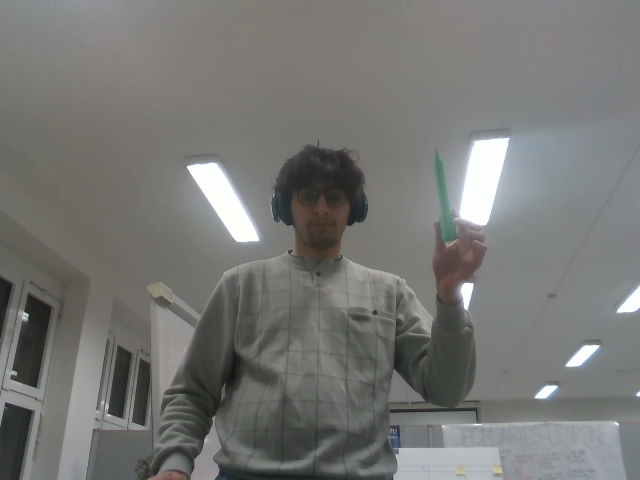Probe: (433, 145, 461, 241)
